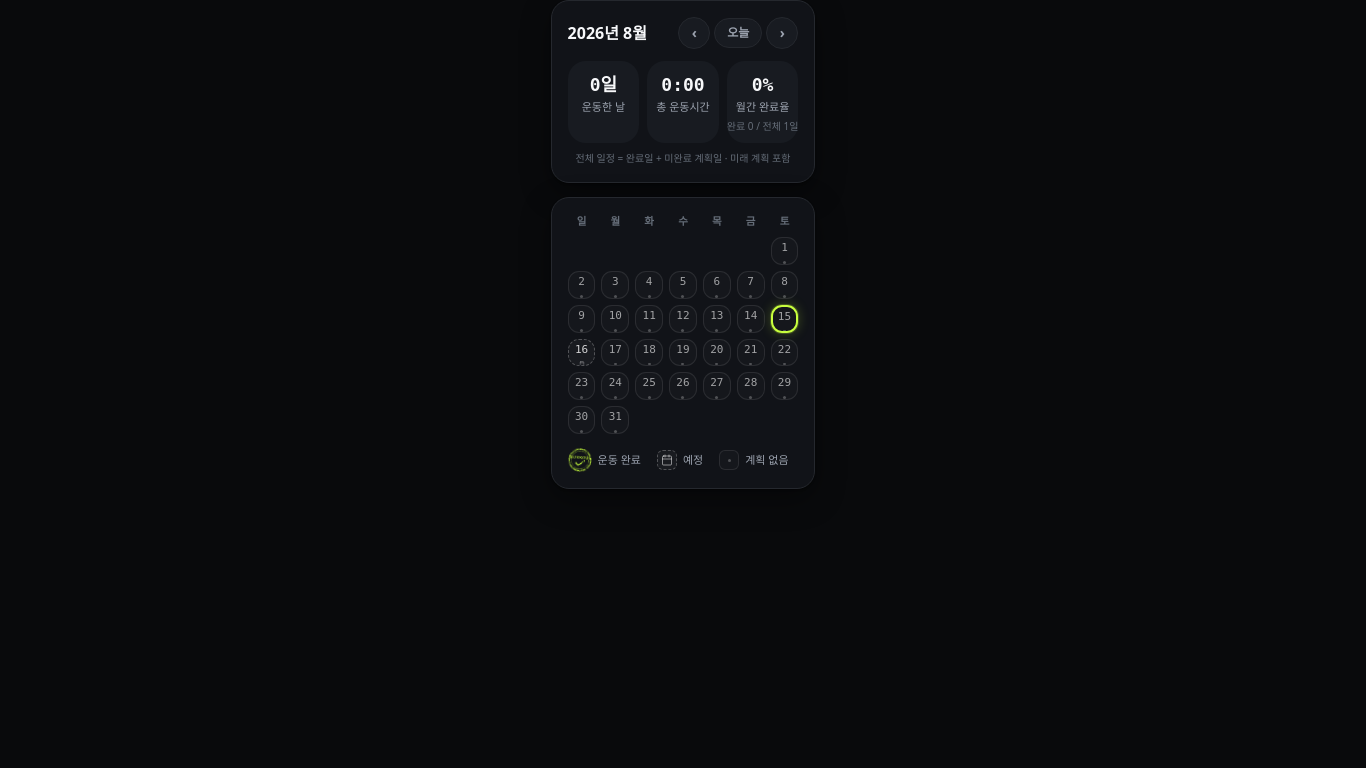
Test case: CalendarView — 계획 상세 (2026-08-04) › 계획을 누르면 종목별 세트 수량까지 보여준다
expect the heading "2026년 8월" is shown: met, box [568,21,647,45]
Click the button named "8월 16일,". click: (582, 352)
box: [568,339,595,366]
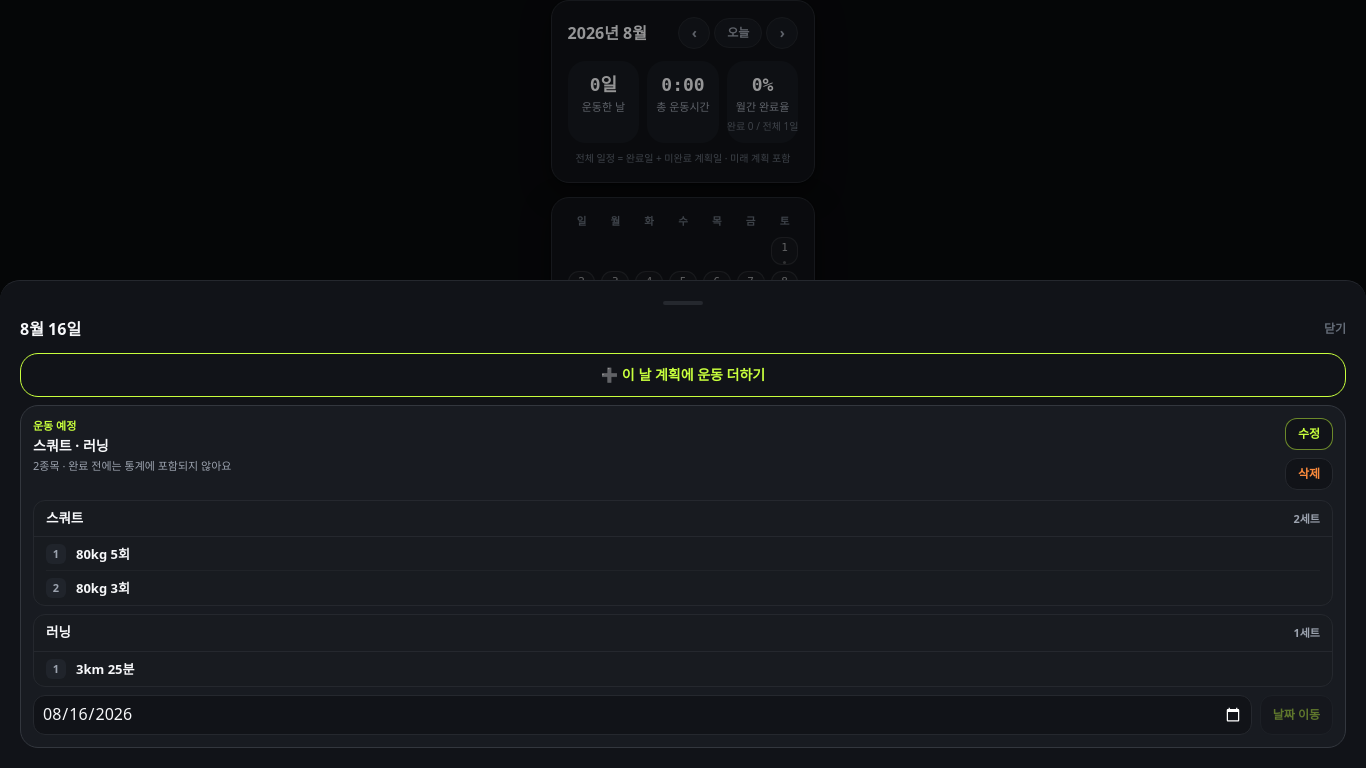
expect the text "80kg 5회" is shown: met, box [76,544,130,562]
expect the text "80kg 3회" is shown: met, box [76,579,130,597]
expect the text "3km 25분" is shown: met, box [76,660,134,678]
